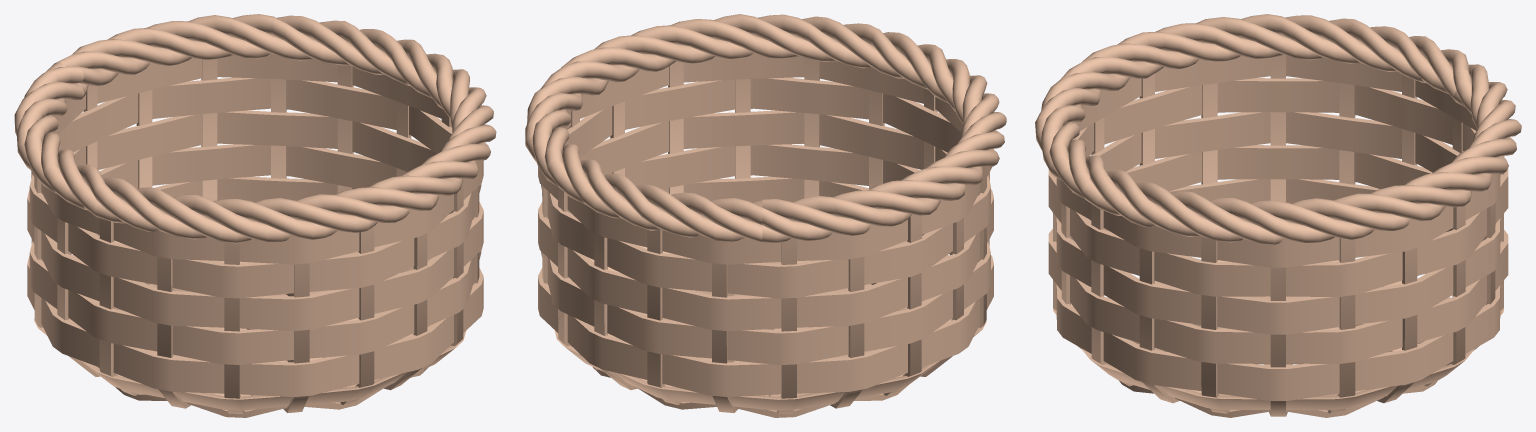
File: FruitBasket.fbx
3 views of the same model, side by side, from view 1: azimuth 30°, elevation 25°; view 2: azimuth 150°, elevation 25°; view 3: azimuth 270°, elevation 25° (orthographic).
Parts seen in each view (by area): view 1: FruitBasket; view 2: FruitBasket; view 3: FruitBasket.
Boxes of the visible parts, left/top/right/bottom form: FruitBasket: left=14, top=14, right=496, bottom=417; FruitBasket: left=525, top=14, right=1006, bottom=417; FruitBasket: left=1035, top=14, right=1521, bottom=417.
Bounding box in the file's own units: 219 × 118 × 219.
